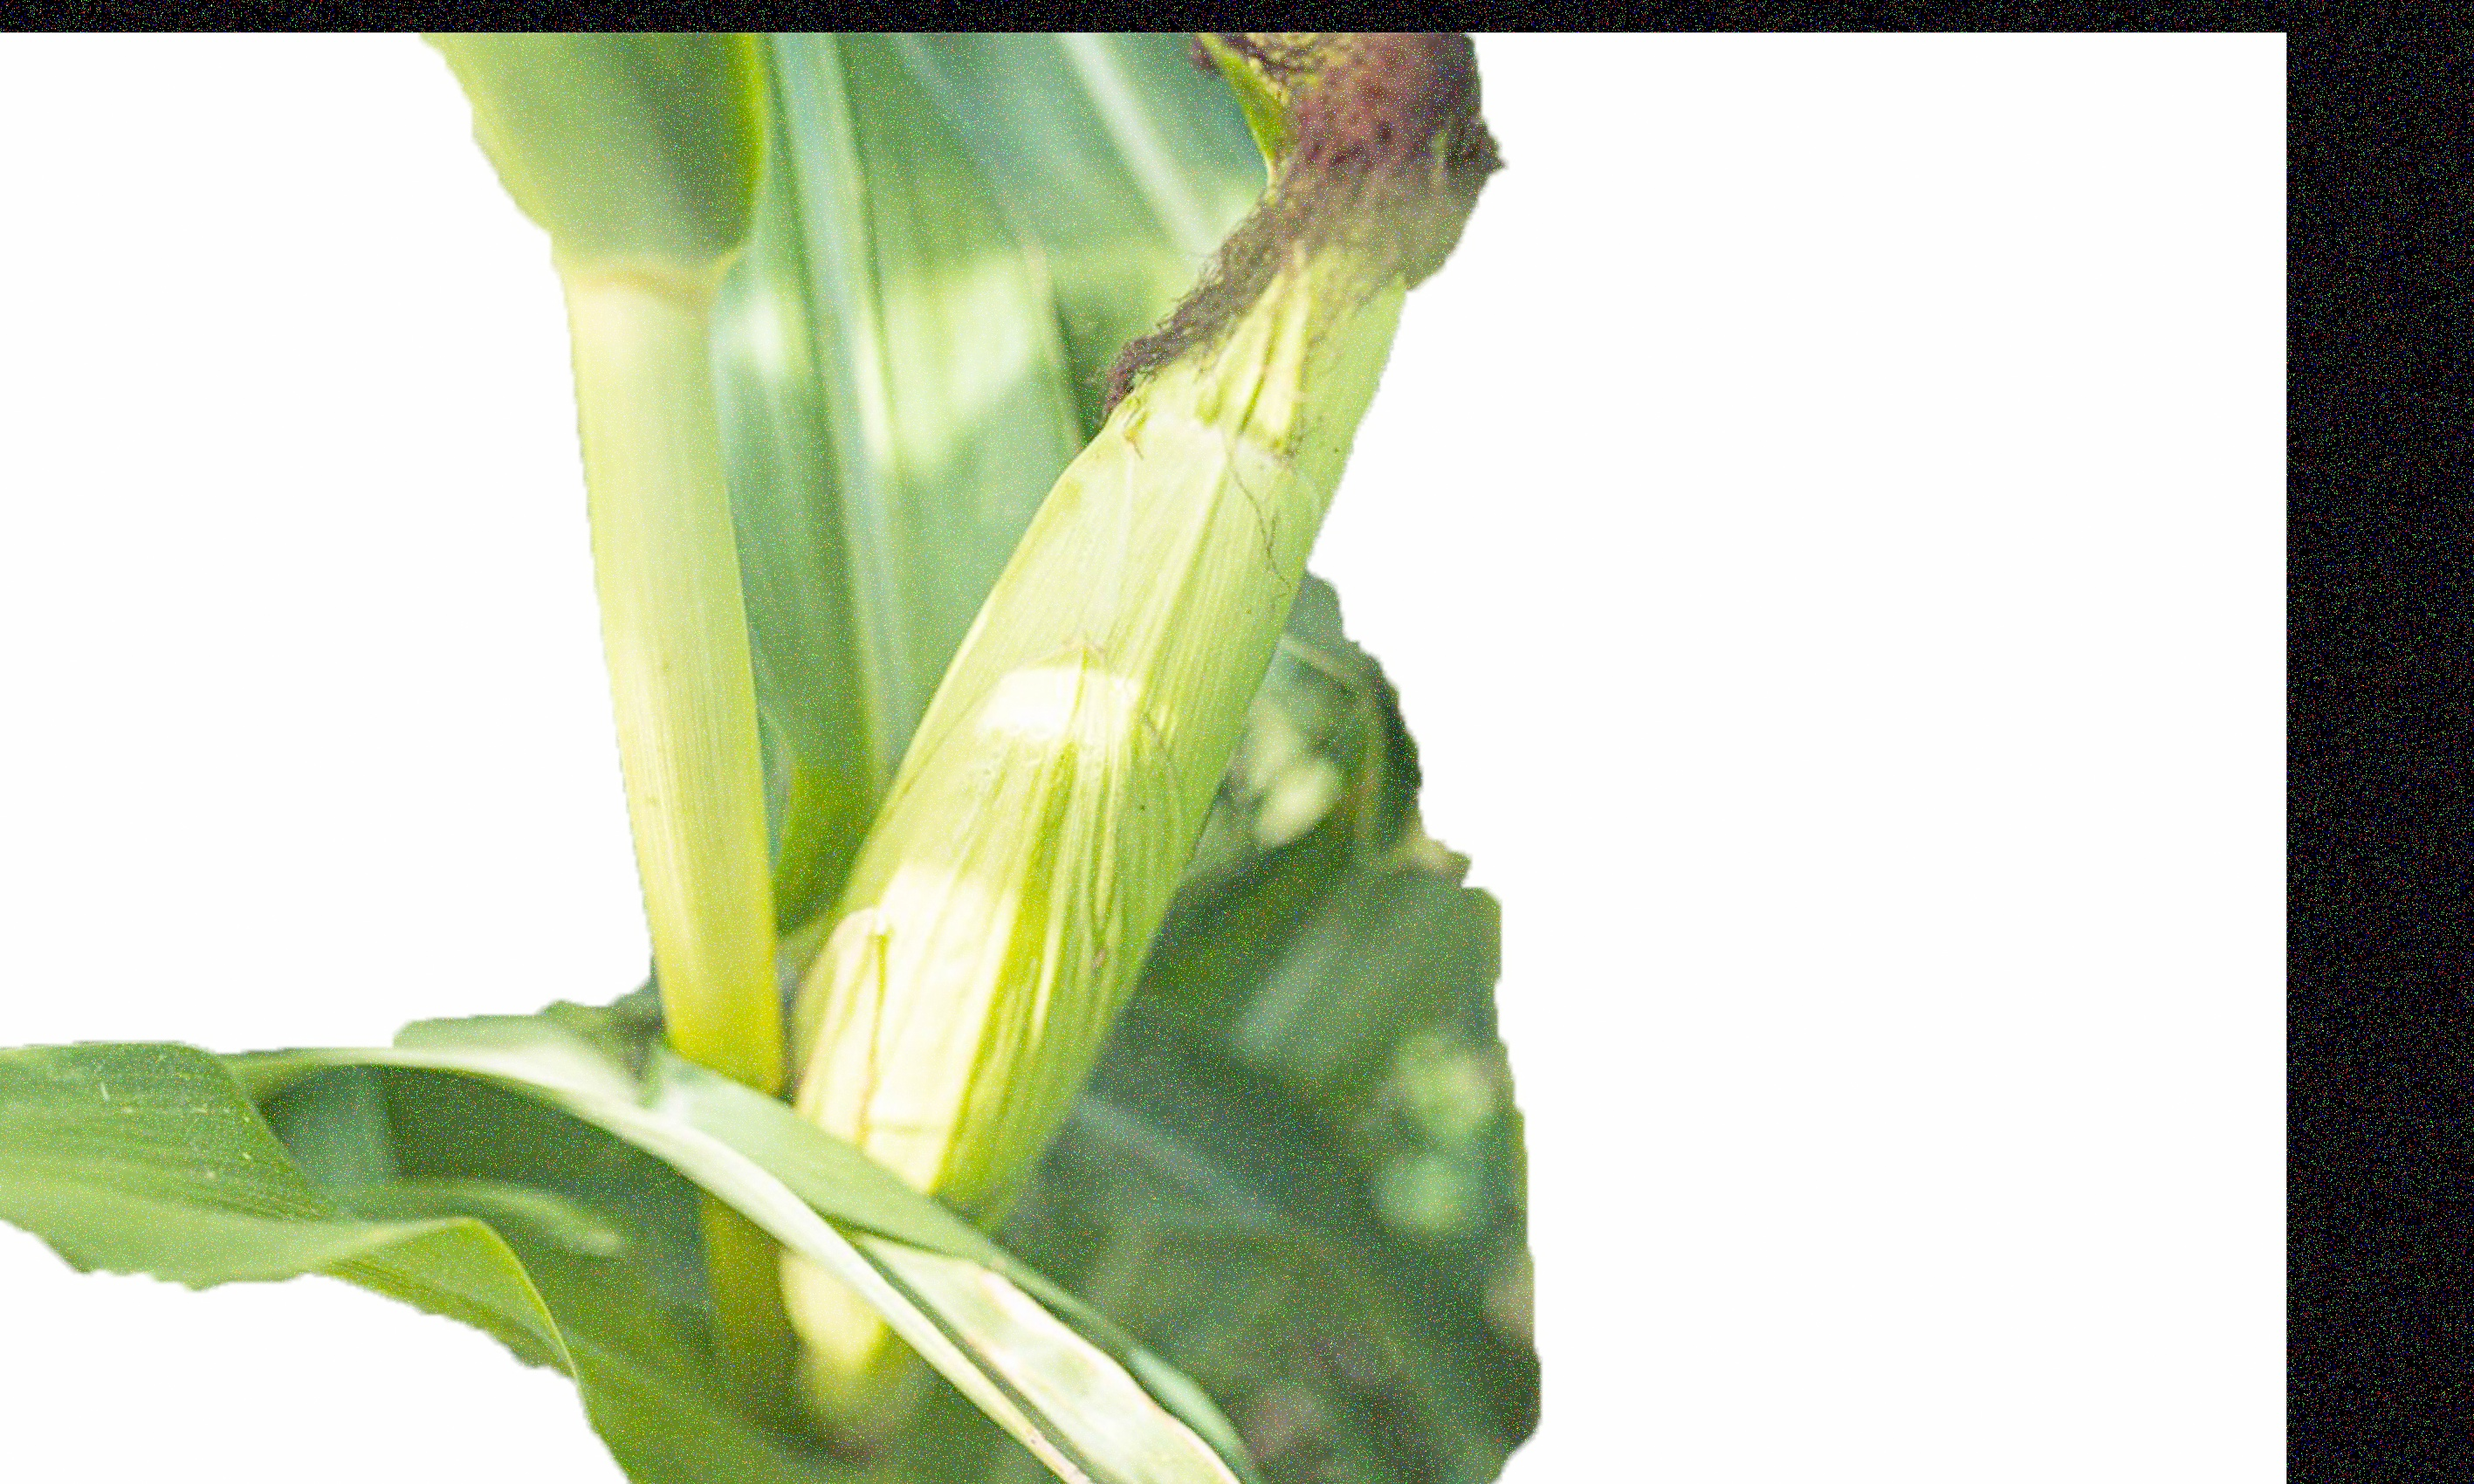corn_plant: (634, 62, 1469, 1401)
